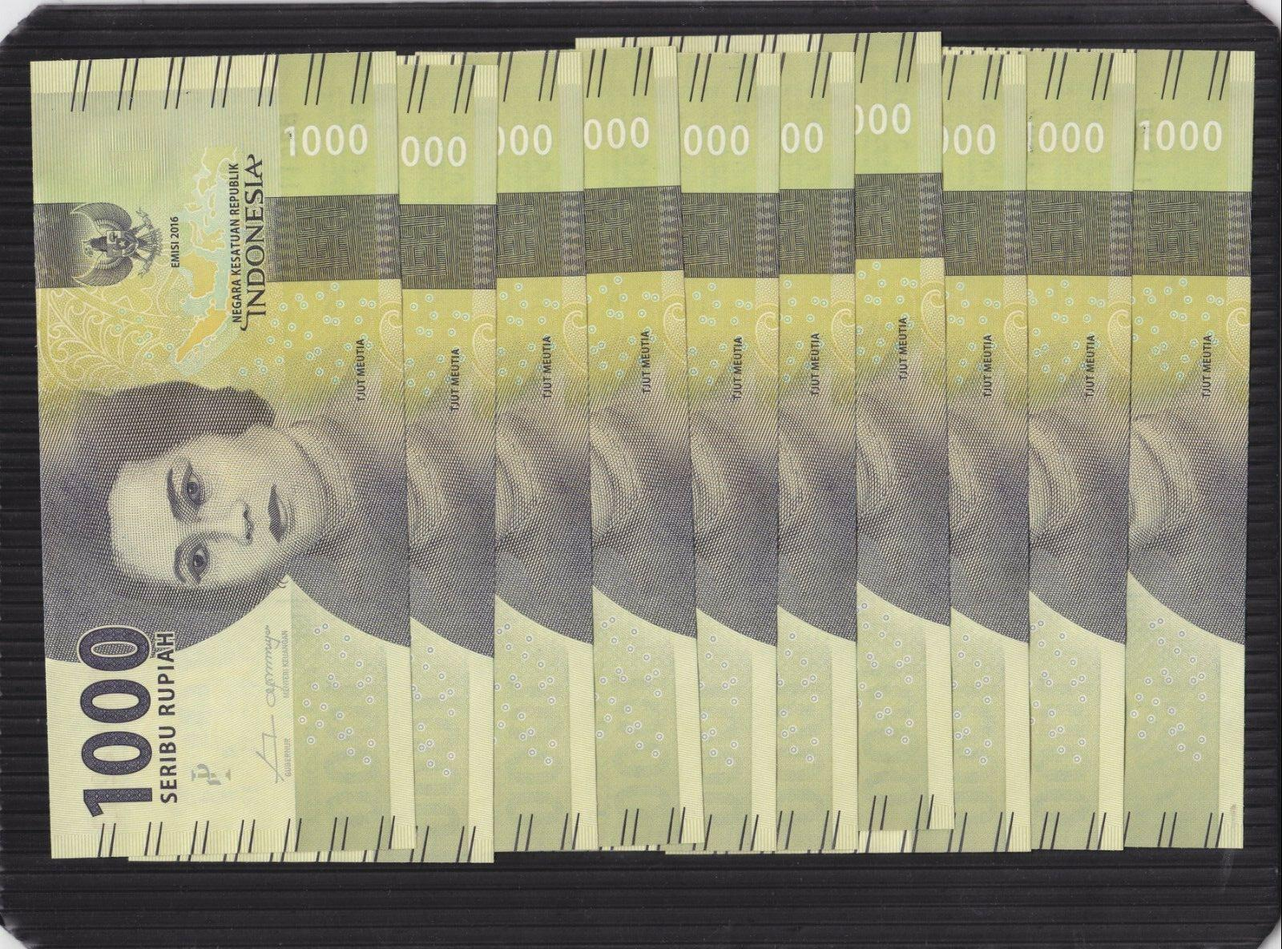1000IndonesianRupiah: (33, 56, 408, 853)
